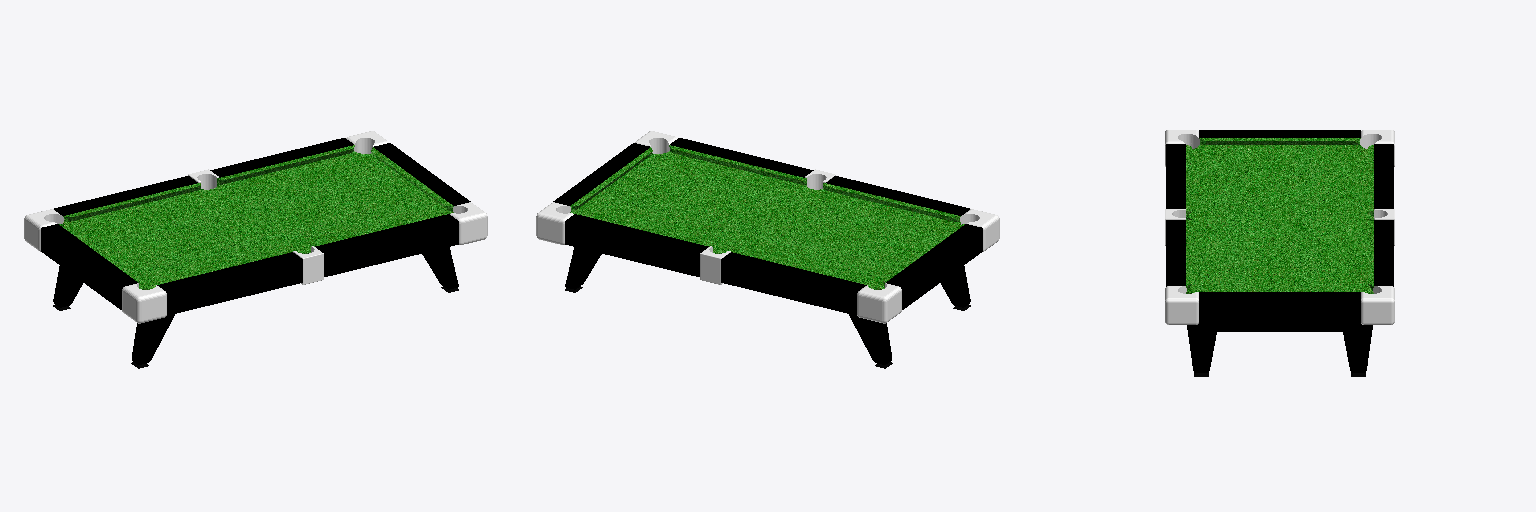
The picture shows the model from 3 angles: view 1: azimuth 30°, elevation 25°; view 2: azimuth 150°, elevation 25°; view 3: azimuth 270°, elevation 25°; orthographic projection.
Visible parts, largest first — view 1: M-Plane, Outer_Edges, Pockets, Inner_Edges, Table_Legs; view 2: M-Plane, Outer_Edges, Pockets, Inner_Edges, Table_Legs; view 3: M-Plane, Outer_Edges, Pockets, Table_Legs, Inner_Edges.
Boxes of the visible parts, x1,y1,x2,y2 form: M-Plane: [63, 151, 453, 289]; Outer_Edges: [41, 138, 470, 315]; Pockets: [24, 131, 487, 323]; Inner_Edges: [59, 145, 453, 284]; Table_Legs: [53, 247, 458, 364]; M-Plane: [570, 151, 960, 289]; Outer_Edges: [553, 138, 982, 315]; Pockets: [536, 131, 999, 323]; Inner_Edges: [570, 145, 964, 287]; Table_Legs: [565, 247, 970, 364]; M-Plane: [1186, 145, 1373, 293]; Outer_Edges: [1166, 130, 1393, 323]; Pockets: [1165, 130, 1394, 324]; Table_Legs: [1187, 324, 1372, 372]; Inner_Edges: [1186, 138, 1373, 291].
Bounding box in the file's own units: 3.01 × 0.6909 × 1.71.
4 materials, 1 textured.